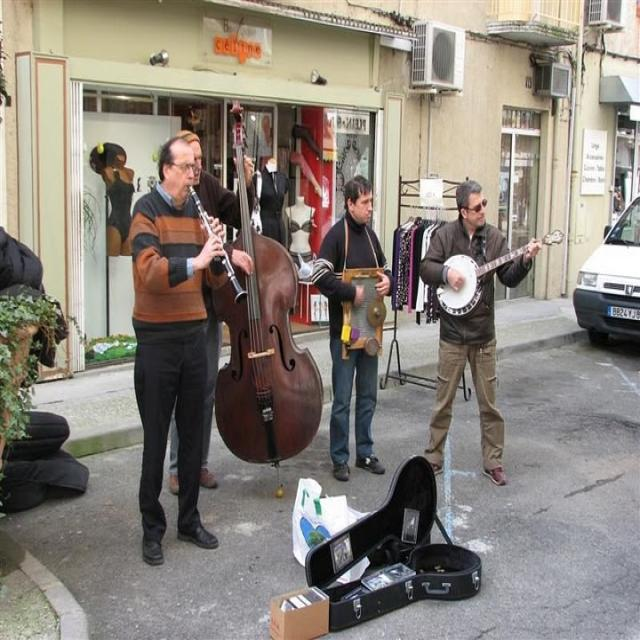clarinet: (185, 185, 251, 307)
